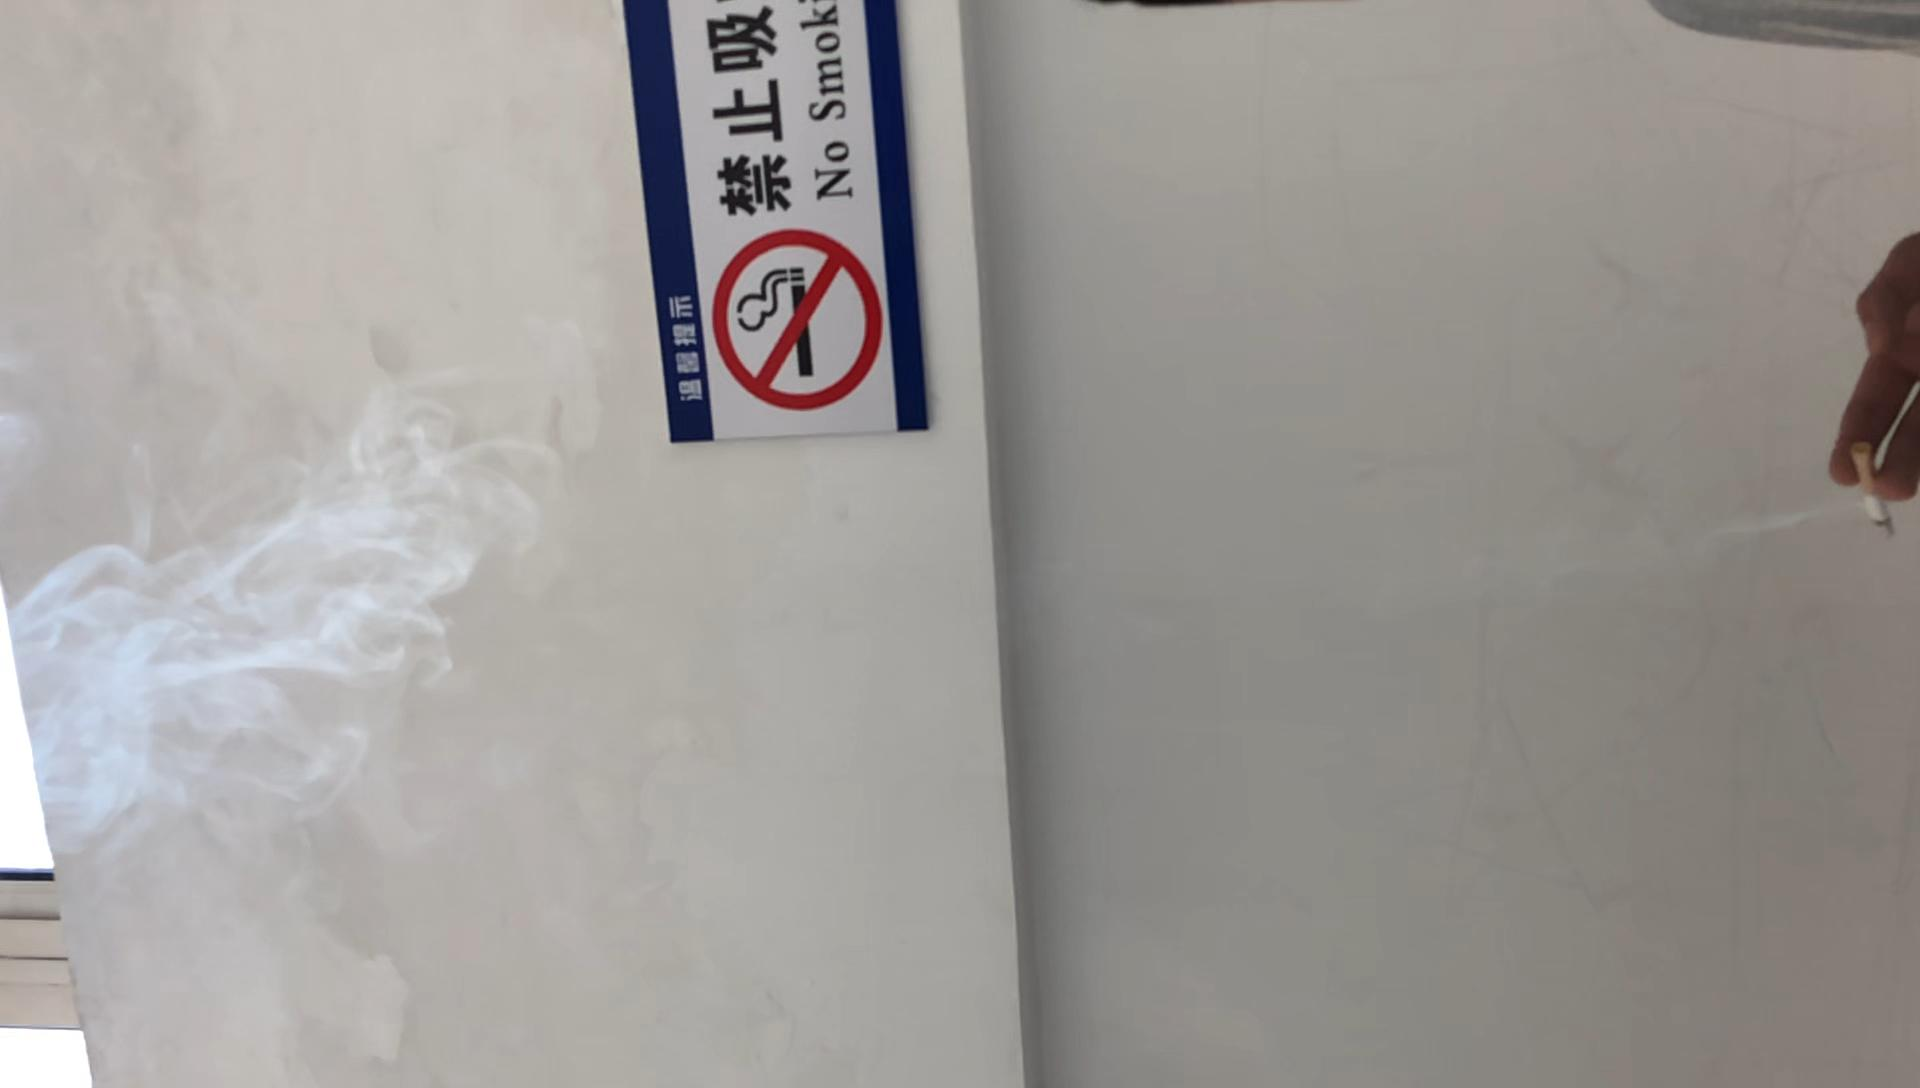yanwu: (1, 404, 530, 827)
